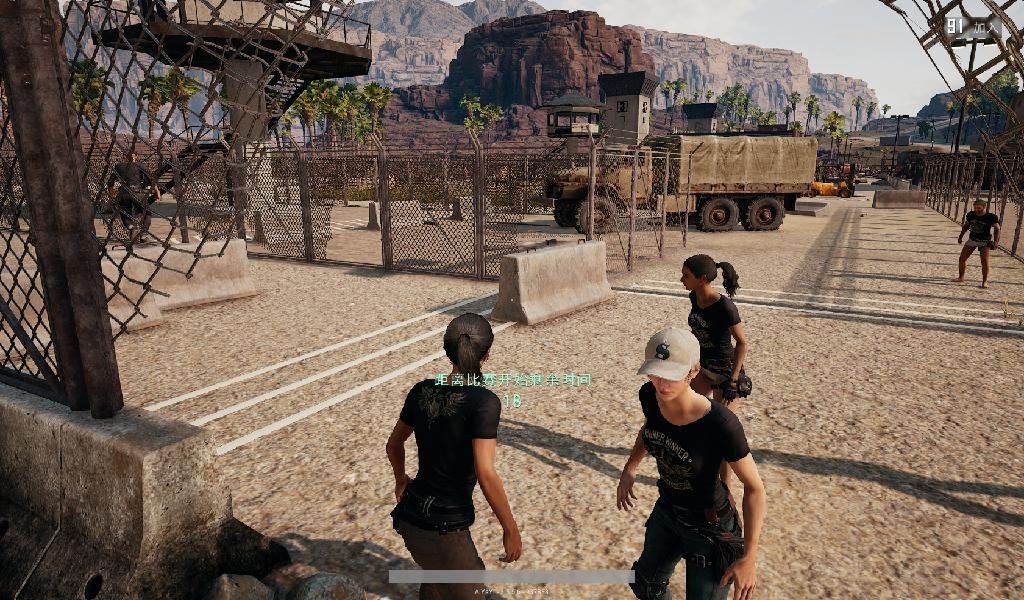Target Person: (616, 325, 766, 600), (384, 311, 524, 600), (674, 250, 752, 490), (108, 144, 163, 251), (954, 199, 1002, 288)
